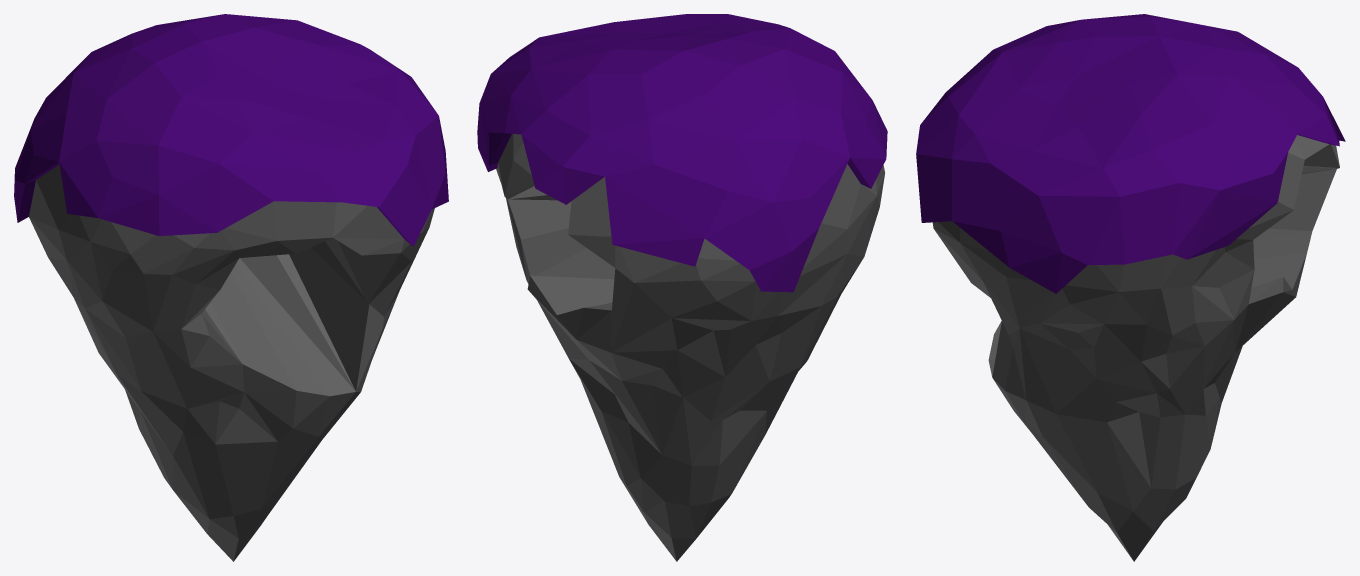
The model's file is Floating Island 2.fbx.
3 renders of one model, left to right at view 1: azimuth 30°, elevation 25°; view 2: azimuth 150°, elevation 25°; view 3: azimuth 270°, elevation 25°, orthographic.
Parts seen in each view (by area): view 1: Icosphere.005; view 2: Icosphere.005; view 3: Icosphere.005.
Part boxes in pixels (x1,y1,x2,y2): Icosphere.005: (14, 14, 448, 561); Icosphere.005: (477, 14, 887, 561); Icosphere.005: (916, 14, 1345, 561).
Bounding box in the file's own units: 765 × 1040 × 784.
